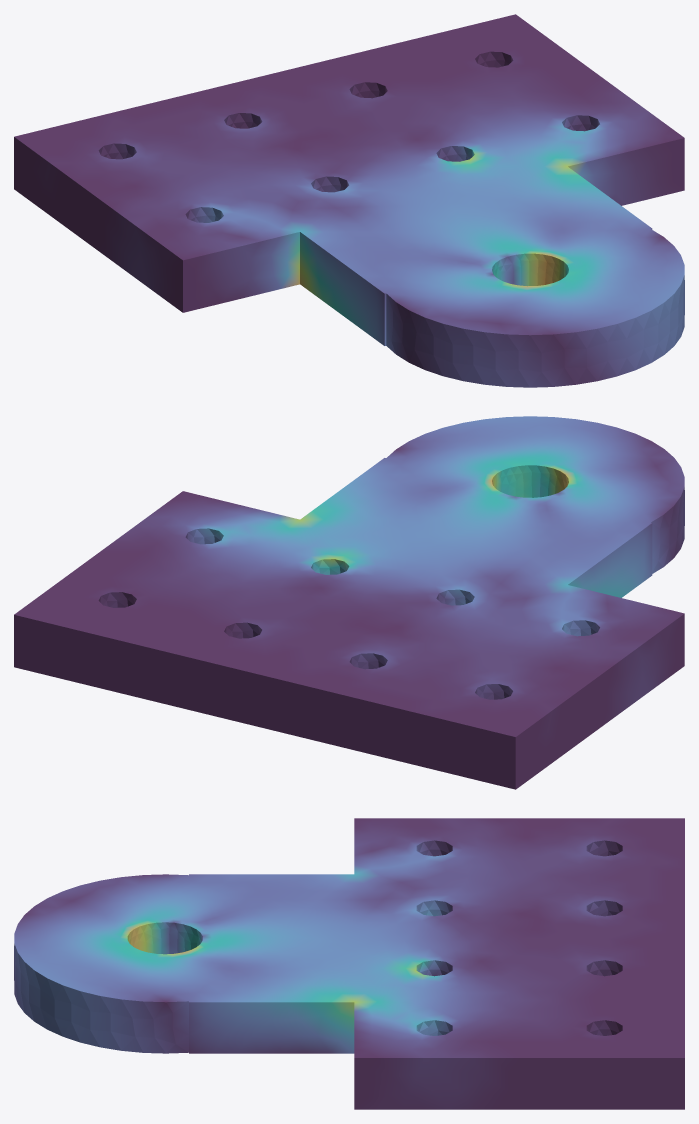
File: P5_parachute_hardpoint.glb
3 views of the same model, one above another, from view 1: azimuth 30°, elevation 25°; view 2: azimuth 150°, elevation 25°; view 3: azimuth 270°, elevation 25° (orthographic). The views are drawn at different scales.
Visible parts, largest first — view 1: geometry_0; view 2: geometry_0; view 3: geometry_0.
Part boxes in pixels (x1,y1,x2,y2): geometry_0: (14, 14, 684, 387); geometry_0: (14, 416, 684, 789); geometry_0: (14, 818, 684, 1109).
Size of the model in its own units: 0.12 by 0.012 by 0.142.
